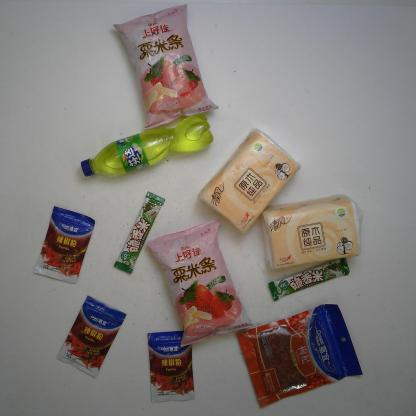Chocolate: (112, 192, 164, 277), (269, 263, 346, 298)
Dried Fruit: (236, 305, 364, 410)
Drink: (79, 119, 216, 180)
Puffed Food: (114, 3, 221, 126), (148, 220, 251, 347)
Seasoner: (57, 294, 126, 380), (31, 200, 95, 283), (147, 331, 196, 402)
Tissue: (200, 120, 298, 233), (260, 196, 360, 262)
